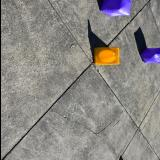cone: (92, 47, 119, 65)
cube: (98, 0, 132, 17), (139, 48, 160, 64)
